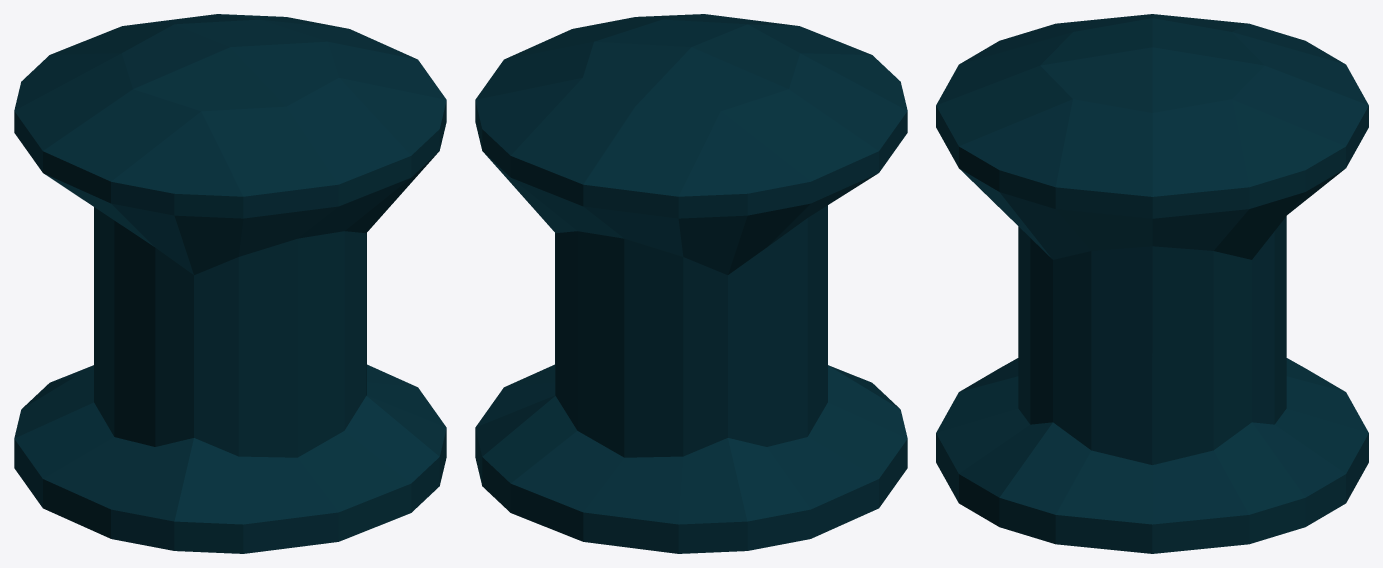
Rendered from bgldeSegurarCorda.fbx.
3 views of the same model, side by side, from view 1: azimuth 30°, elevation 25°; view 2: azimuth 150°, elevation 25°; view 3: azimuth 270°, elevation 25° (orthographic).
Visible parts, largest first — view 1: bgl_praSegurar_corda; view 2: bgl_praSegurar_corda; view 3: bgl_praSegurar_corda.
Part boxes in pixels (x1=…): bgl_praSegurar_corda: x1=14, y1=14, x2=446, y2=553; bgl_praSegurar_corda: x1=475, y1=14, x2=907, y2=553; bgl_praSegurar_corda: x1=936, y1=14, x2=1368, y2=553.
Bounding box in the file's own units: 75.93 × 80.34 × 75.93.
